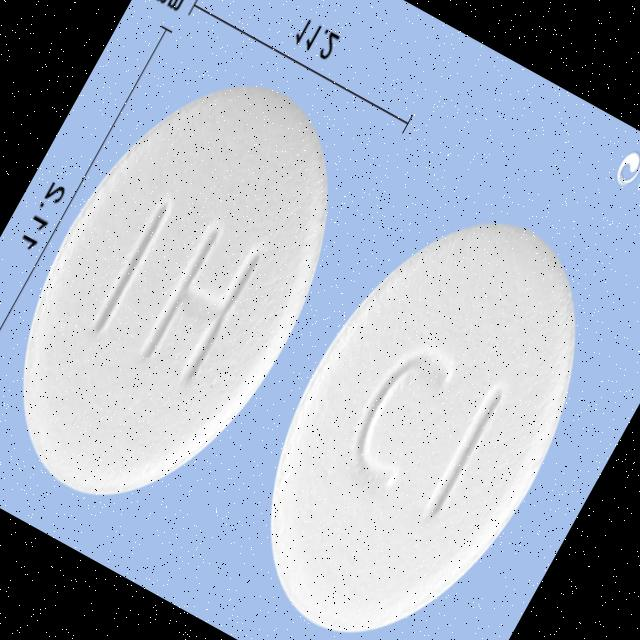Ciroxacin: (0, 28, 398, 558), (197, 166, 640, 640)
